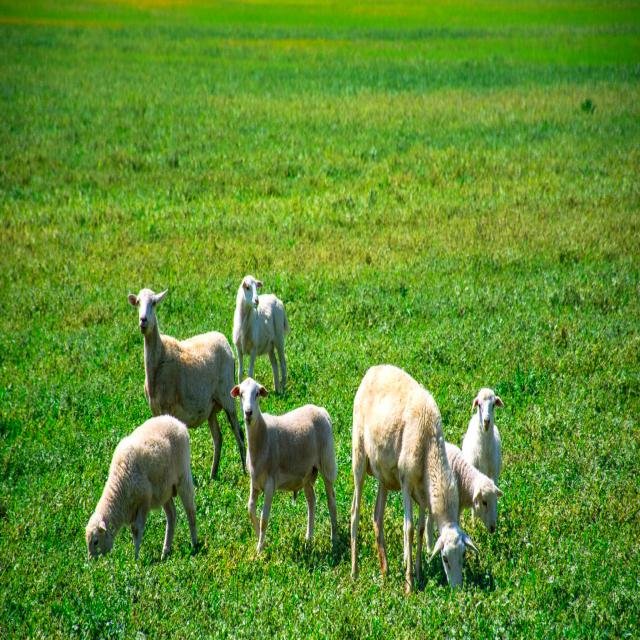sheep: (351, 365, 476, 593), (128, 288, 245, 479), (231, 377, 338, 553), (86, 415, 199, 559), (232, 275, 291, 392), (445, 442, 503, 532), (461, 388, 504, 480)
